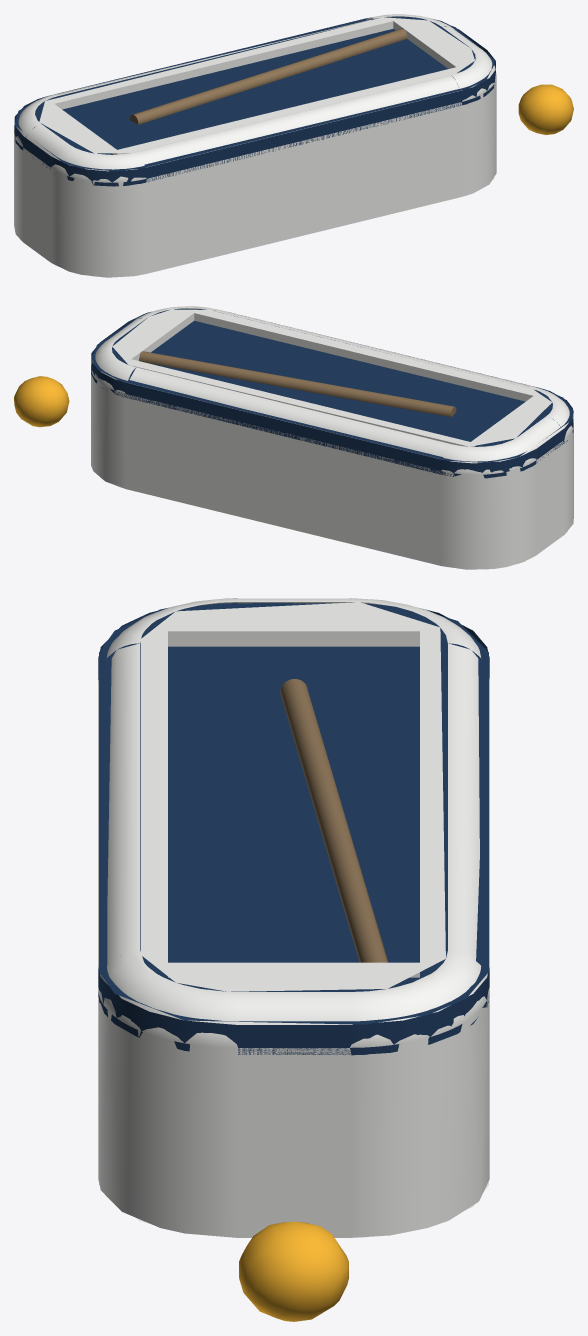
Rendered from f31-moored-dinghy.lod1.glb.
3 renders of one model, top to bottom at view 1: azimuth 30°, elevation 25°; view 2: azimuth 150°, elevation 25°; view 3: azimuth 270°, elevation 25°, orthographic. The views are drawn at different scales.
Visible parts, largest first — view 1: part0, part1, part3, part4; view 2: part0, part1, part3, part4; view 3: part0, part1, part4, part3.
Boxes of the visible parts, x1,y1,x2,y2 form: part0: (14, 14, 496, 277); part1: (14, 16, 495, 186); part3: (130, 28, 407, 124); part4: (518, 84, 573, 134); part0: (91, 306, 573, 569); part1: (91, 308, 573, 478); part3: (139, 351, 456, 417); part4: (14, 376, 69, 427); part0: (98, 598, 489, 1237); part1: (98, 603, 489, 1055); part4: (239, 1221, 348, 1321); part3: (280, 679, 388, 962).
Bounding box in the file's own units: 4398 × 929 × 1400.
